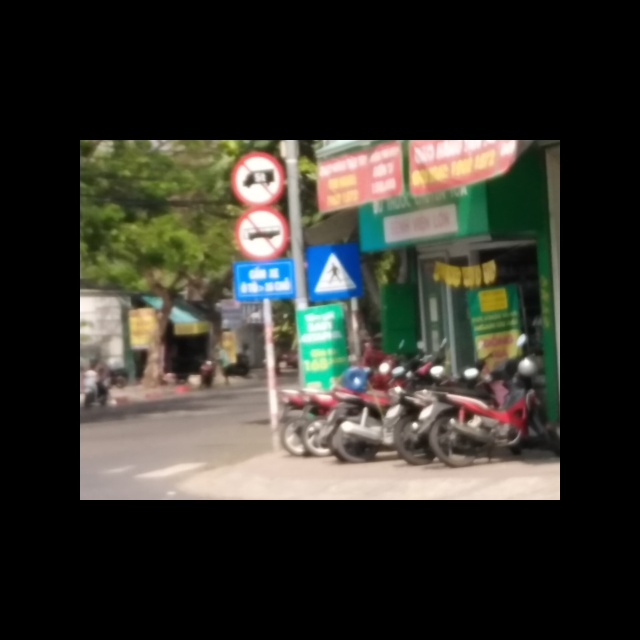Cấm xe tải: (229, 151, 282, 206)
Cấm xe xe khách: (233, 206, 290, 258)
Đường dành cho người đi bộ: (307, 244, 365, 301)
